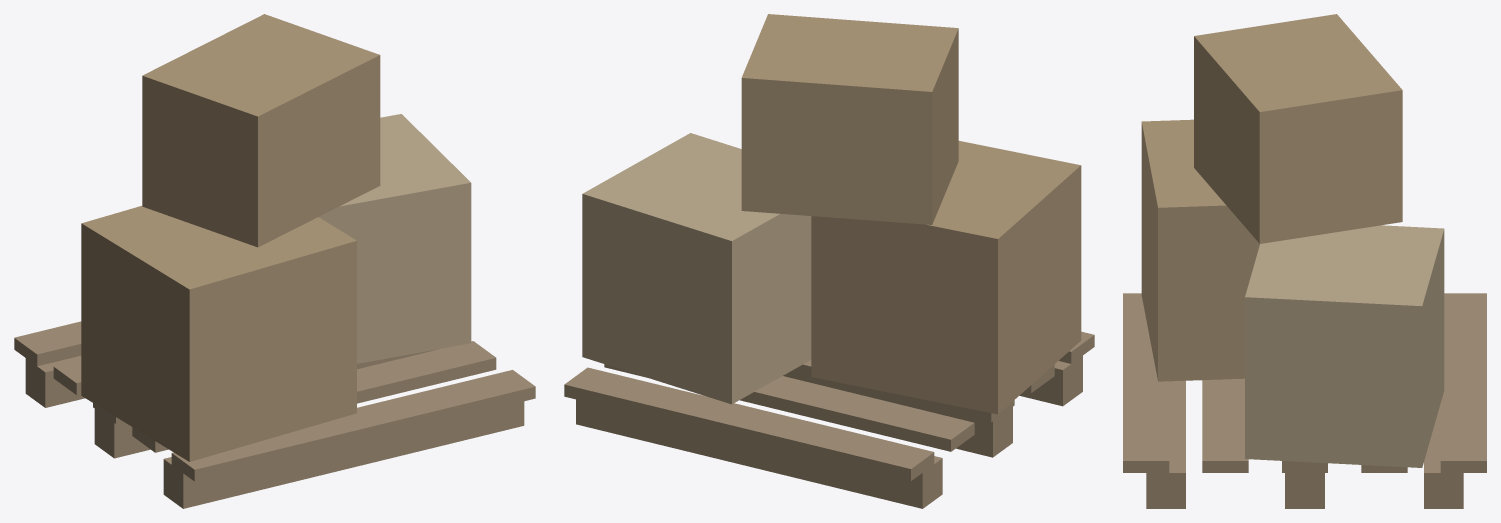
The model's file is crates.glb.
3 views of the same model, side by side, from view 1: azimuth 30°, elevation 25°; view 2: azimuth 150°, elevation 25°; view 3: azimuth 270°, elevation 25° (orthographic).
Parts seen in each view (by area): view 1: crates; view 2: crates; view 3: crates.
Part boxes in pixels (x1,y1,x2,y2): crates: (14,14,535,508); crates: (564,14,1094,508); crates: (1123,14,1486,508).
Bounding box in the file's own units: 1.28 × 1.18 × 1.1.
